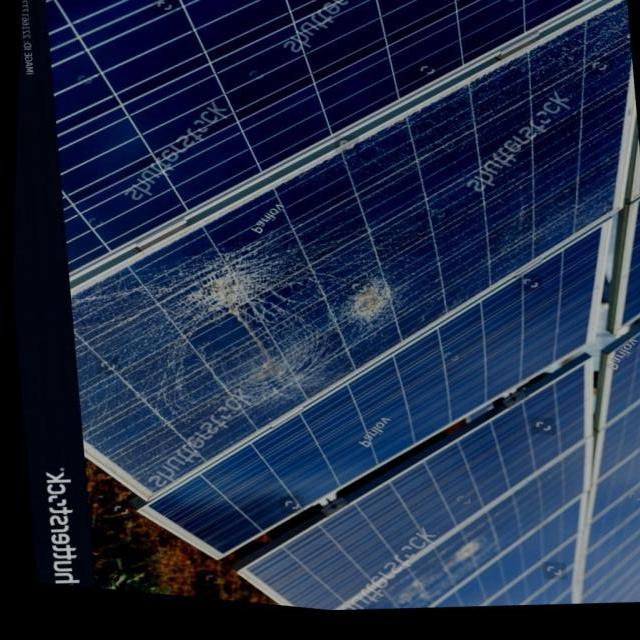cracked: (56, 17, 637, 480), (356, 482, 640, 608)
